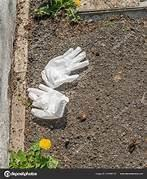Glove: (42, 47, 88, 88), (28, 84, 68, 118)
